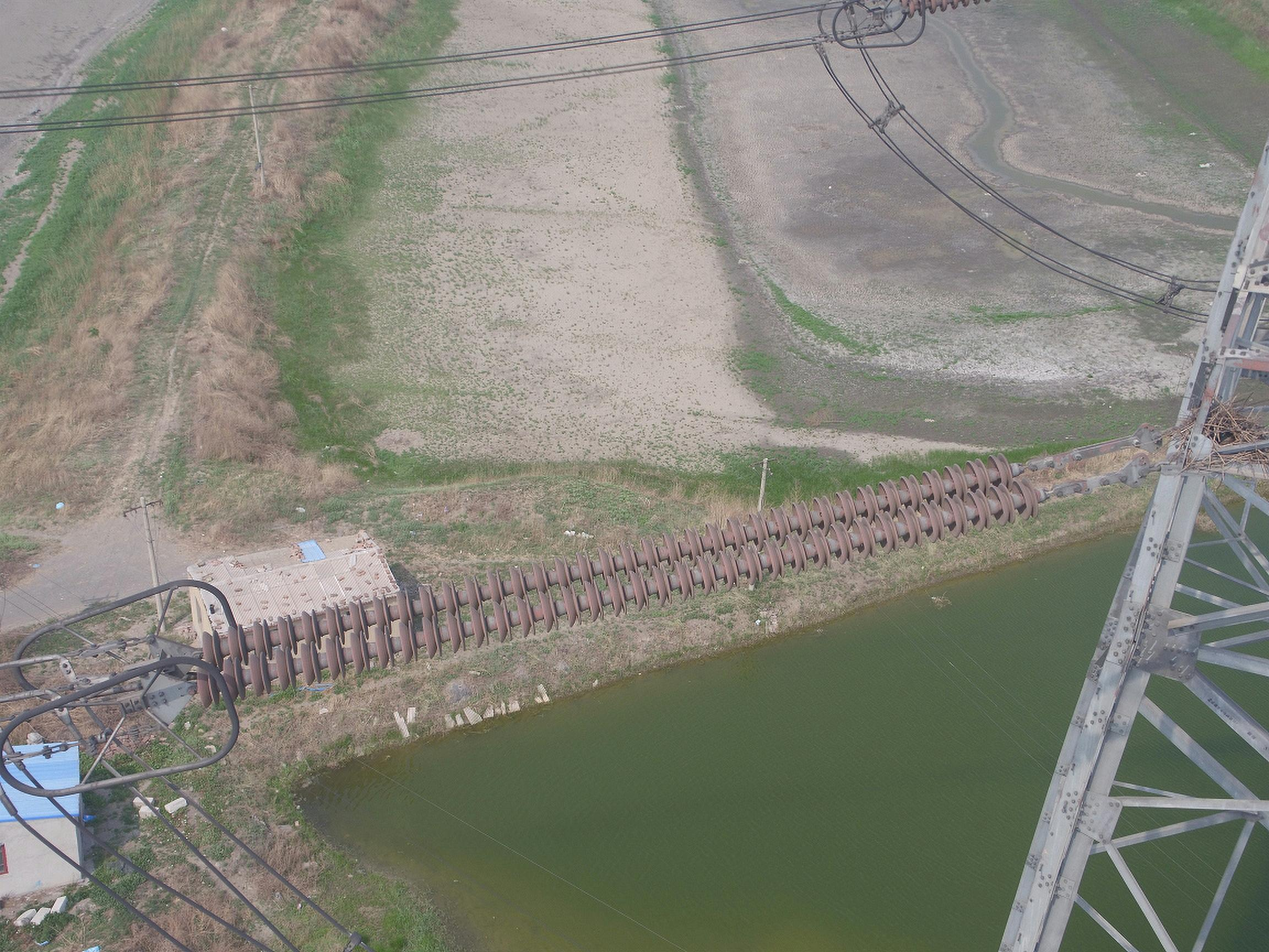insulator: (188, 448, 1044, 712)
